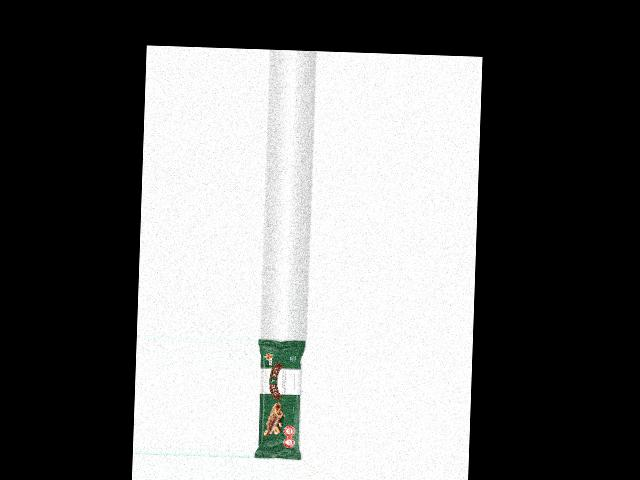chocolate: (254, 337, 308, 460)
